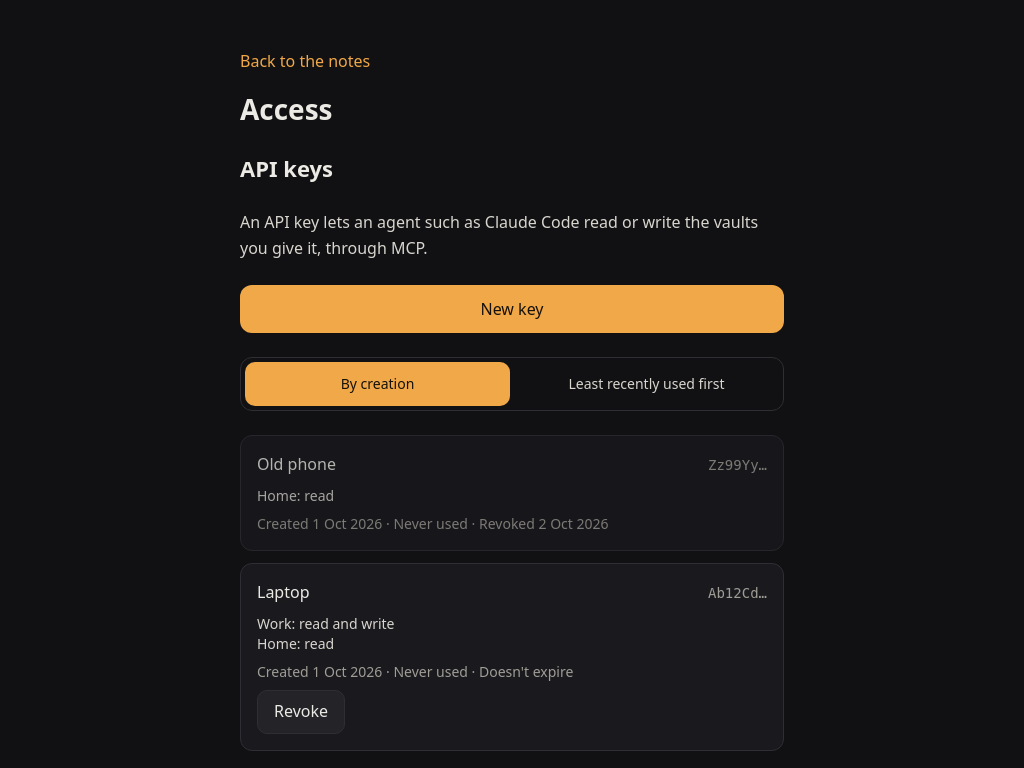
Test: Keys › revokes a key only after confirming
Click the button with aria-label "Revoke Laptop" at {"x": 301, "y": 712}, box [257,690,345,734]
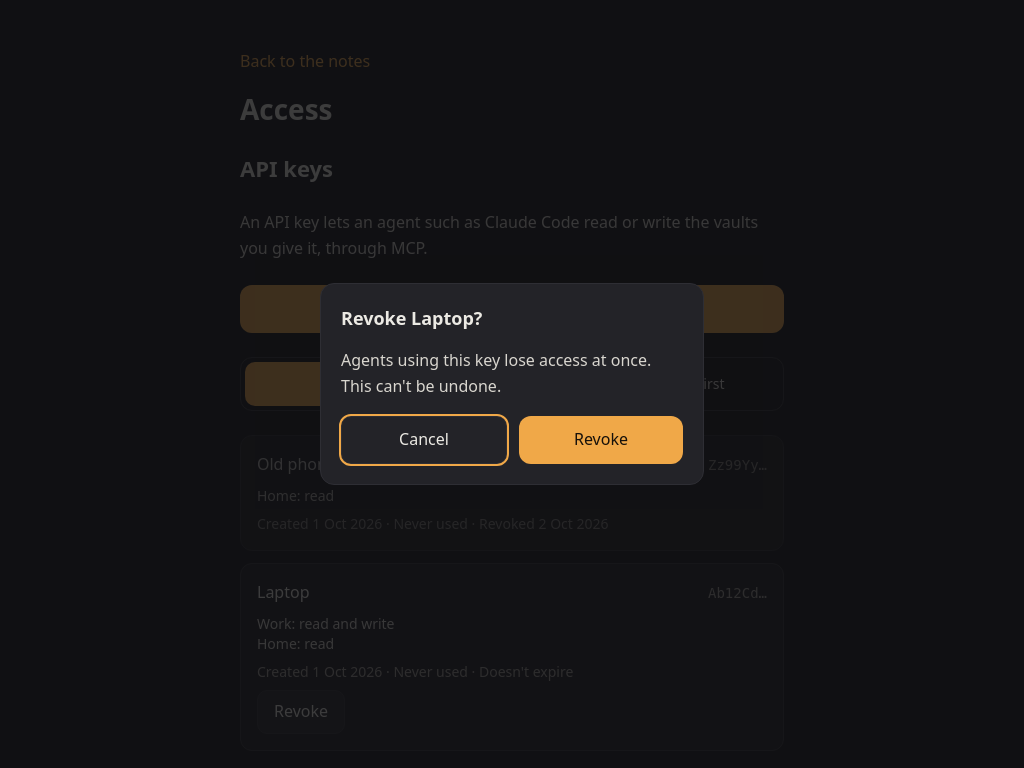
expect the dialog shows "Revoke Laptop?": met, box [320,283,704,485]
Click the button "Cancel" at {"x": 424, "y": 440}, box [341,416,507,464]
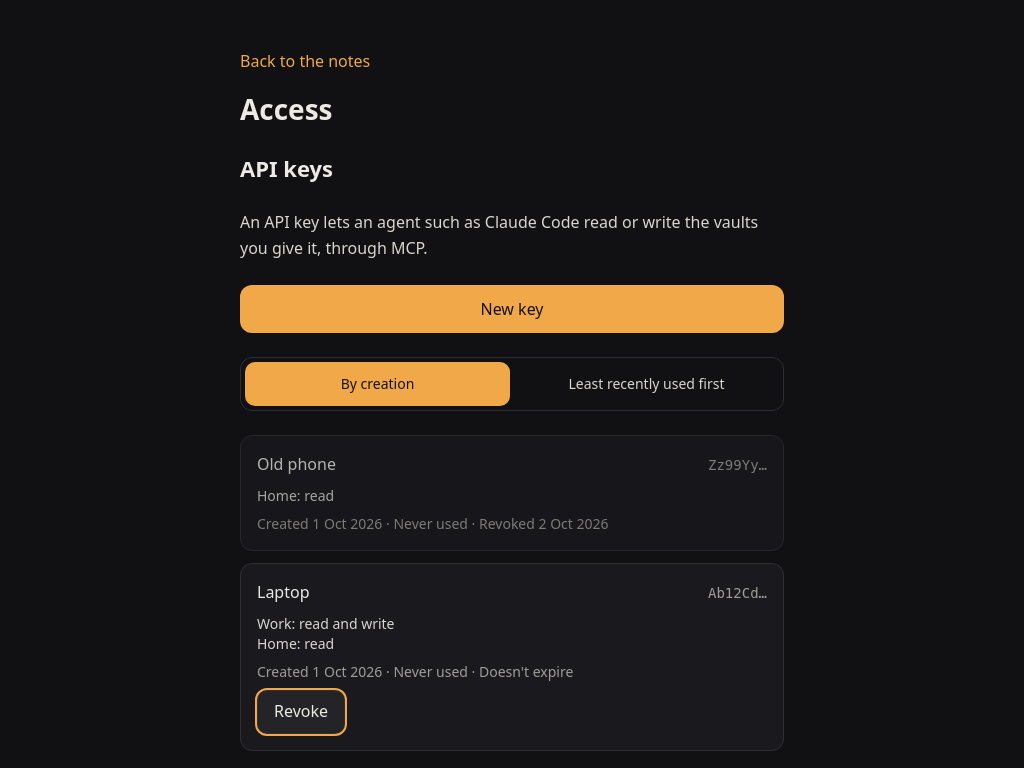
Click the button with aria-label "Revoke Laptop" at {"x": 301, "y": 712}, box [257,690,345,734]
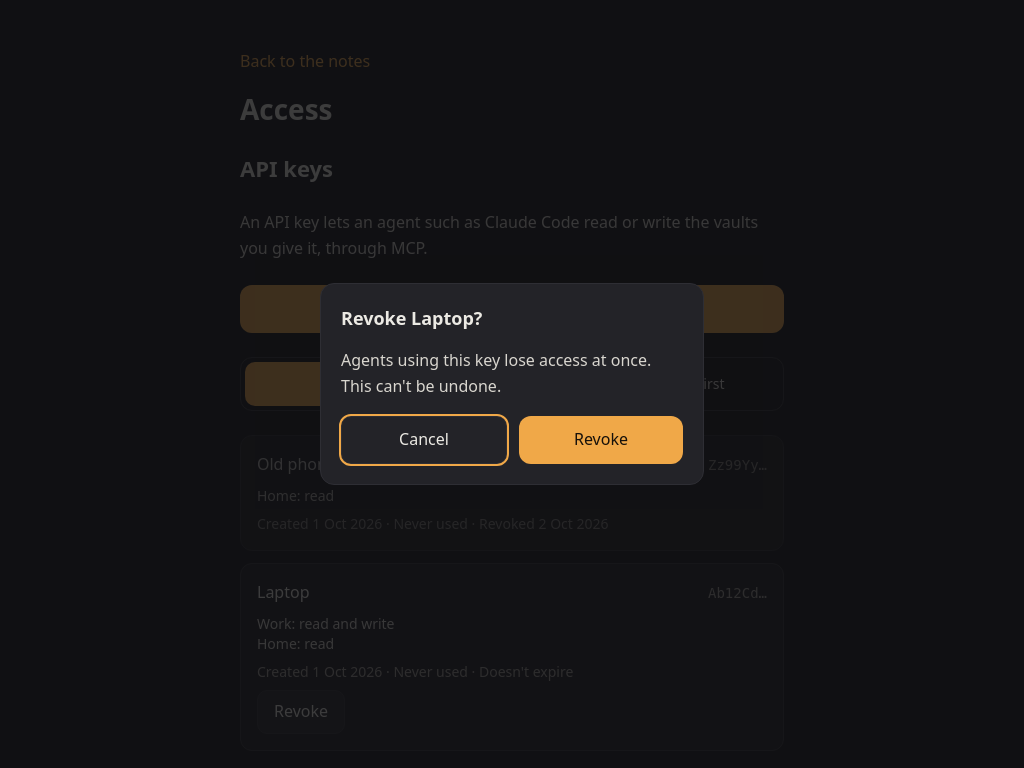
Click the button "Revoke" at {"x": 601, "y": 440}, box [519,416,683,464]
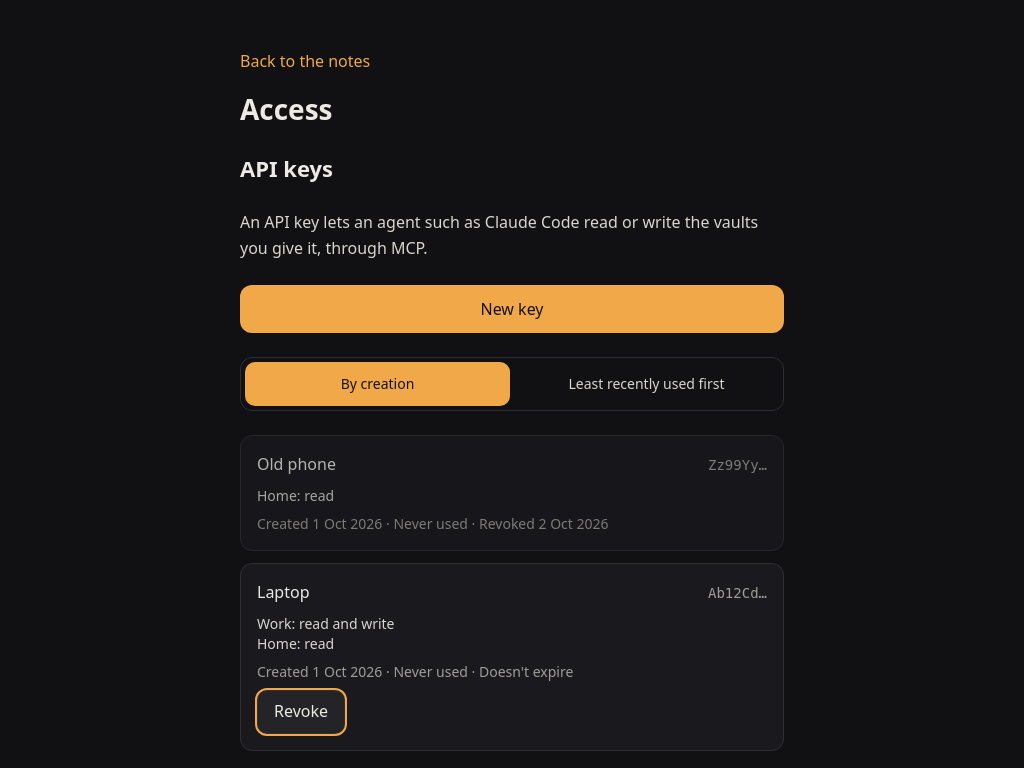
expect the dialog is gone: met
